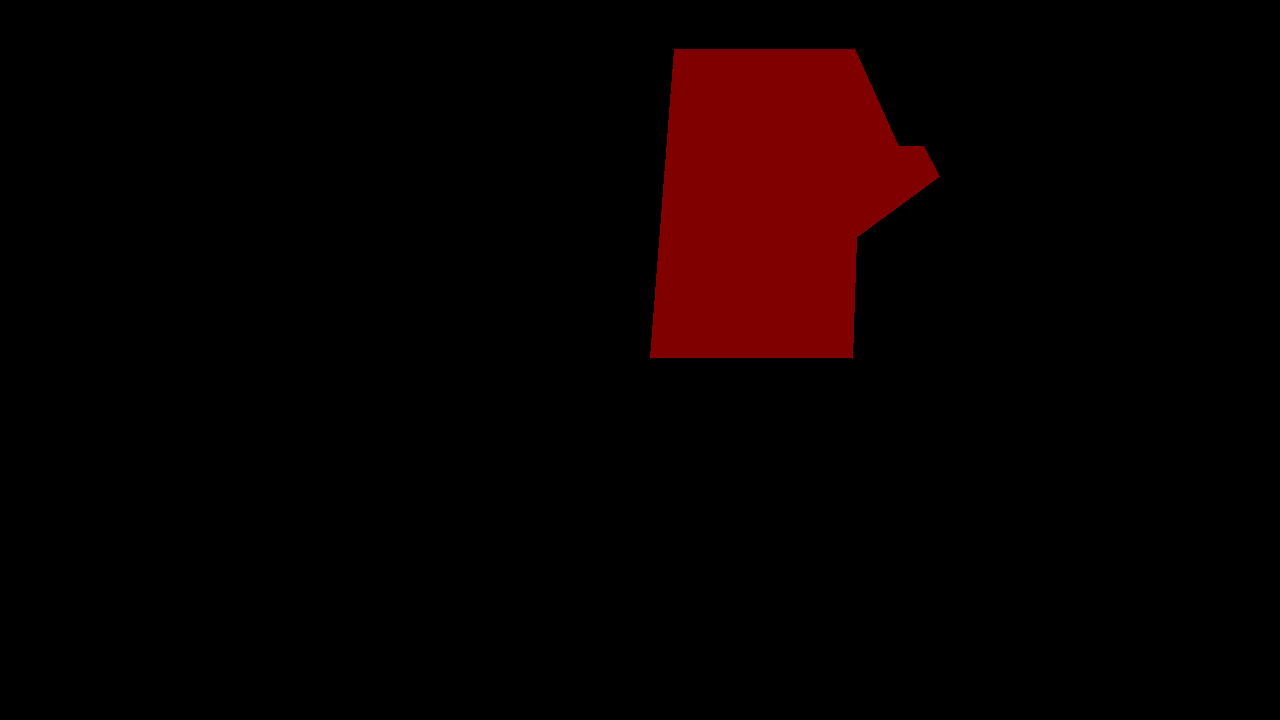stair: (650, 48, 939, 358)
